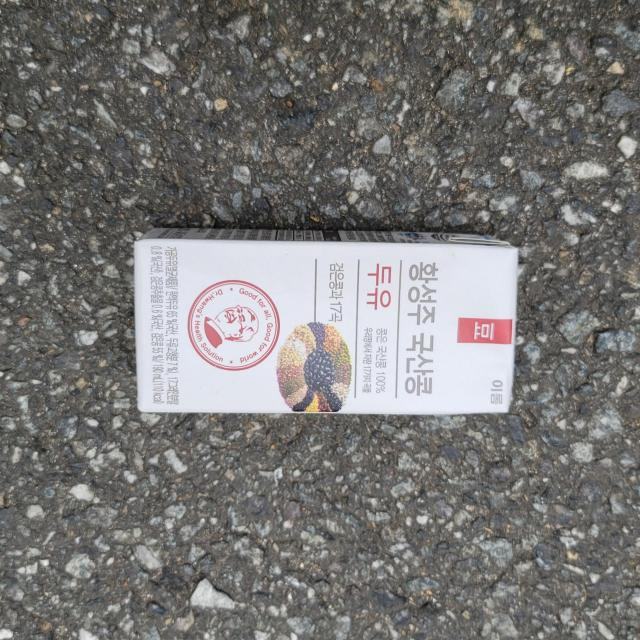paperpack: (134, 228, 519, 414)
